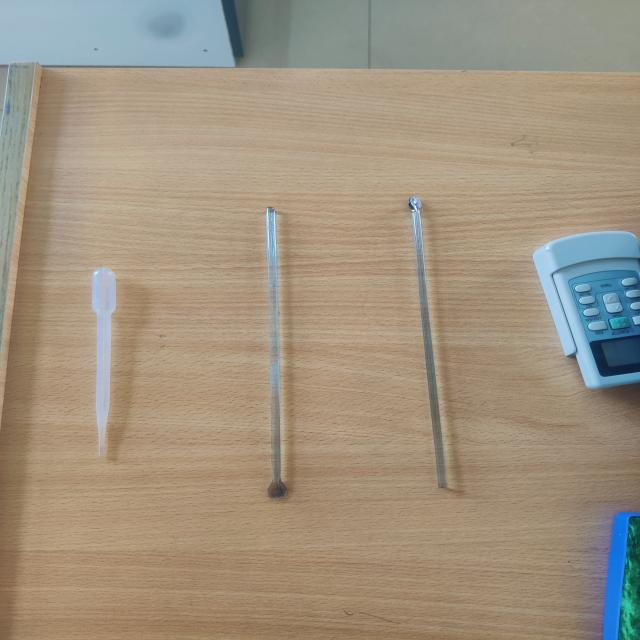Glass_Rod: (384, 156, 498, 530), (228, 175, 318, 522)
Pipette: (54, 247, 154, 486)
